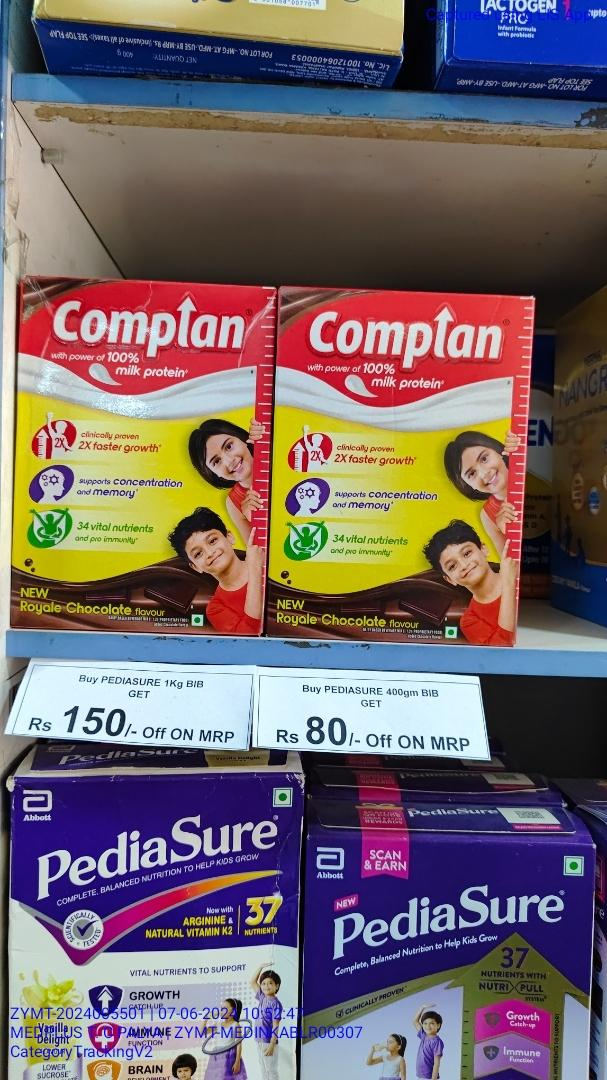COMPLAN_CHOCOLATE_500_GMS_PACK: (273, 286, 537, 652), (22, 277, 272, 642)
